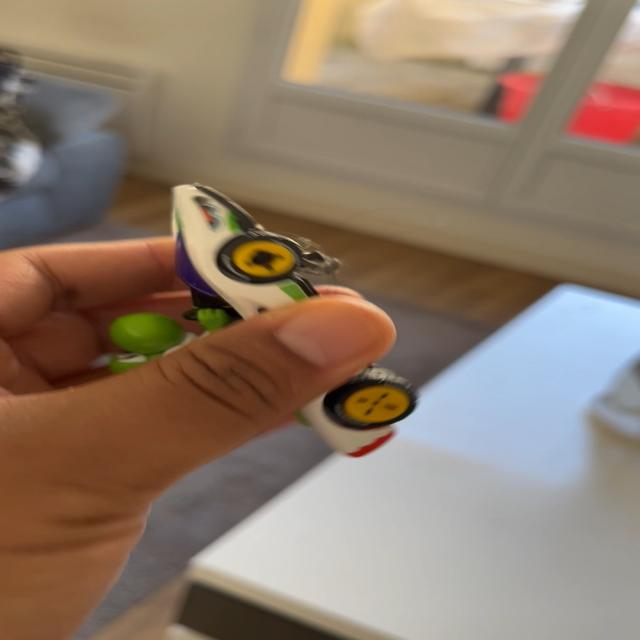yoshi: (61, 177, 443, 466)
